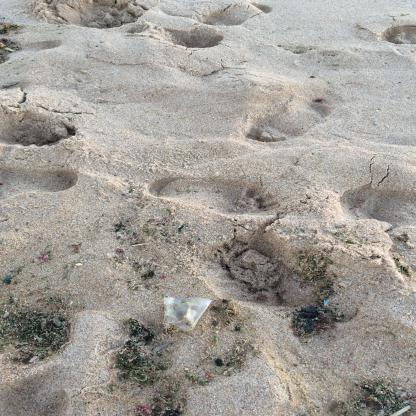plastik: (163, 296, 213, 330)
